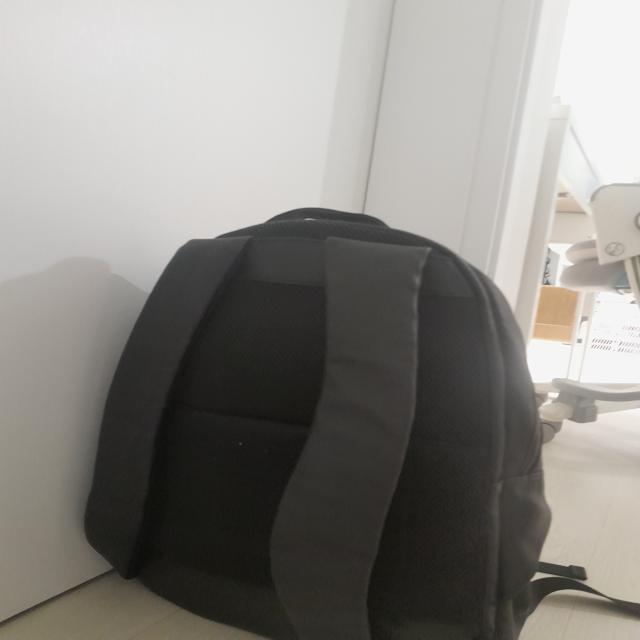backpack: (84, 208, 640, 640)
